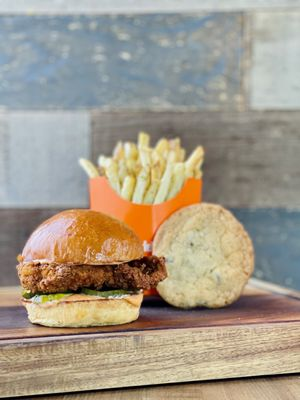soup: (17, 208, 168, 328)
